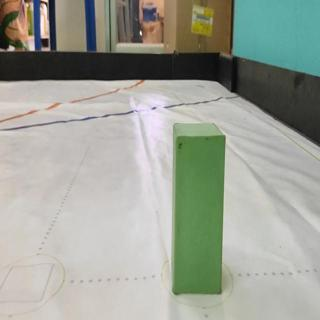greenbox: (174, 119, 226, 295)
